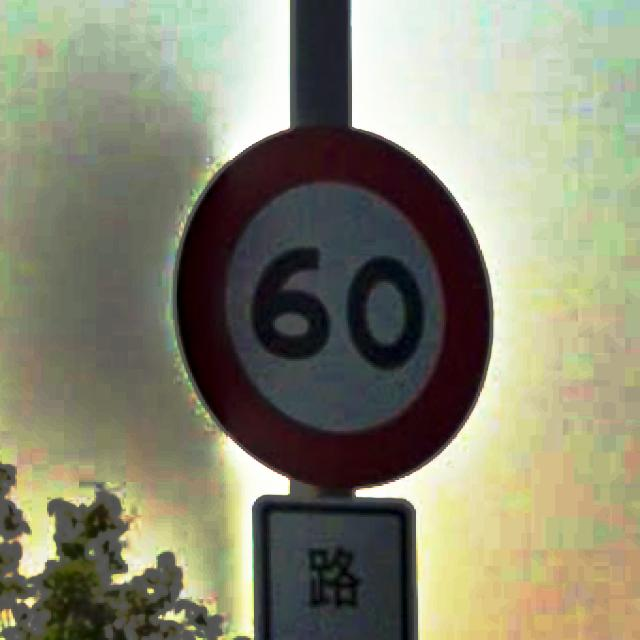max60: (171, 119, 493, 490)
